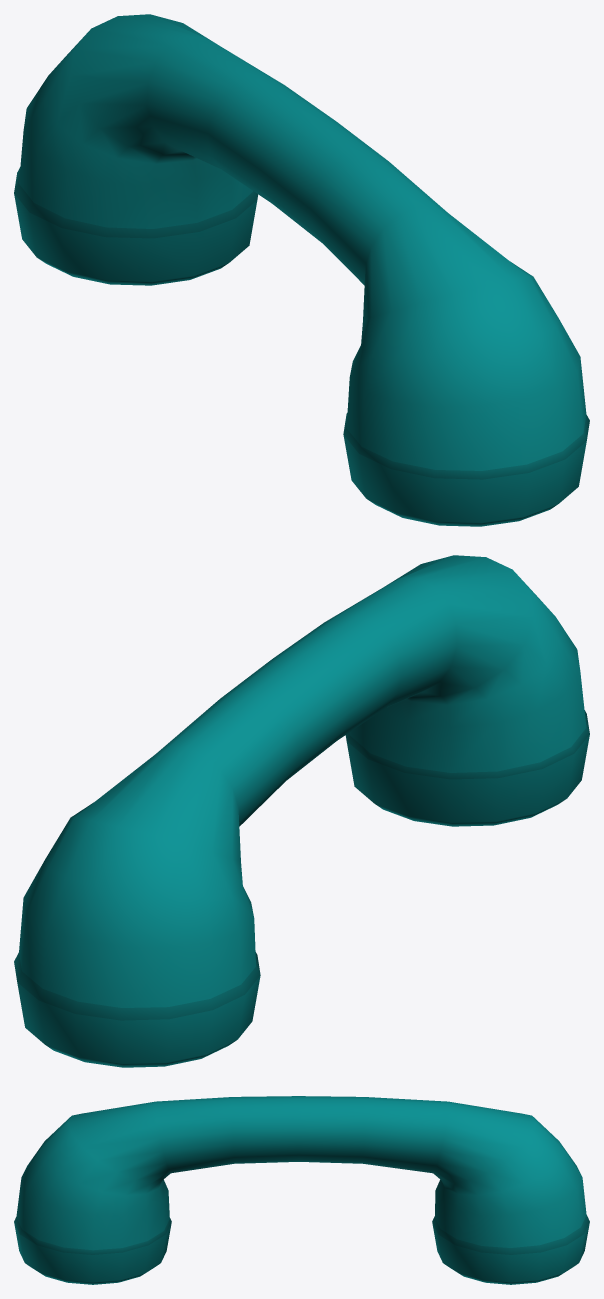
File: human-electronics-telephone-handset_v7.glb
3 views of the same model, one above another, from view 1: azimuth 30°, elevation 25°; view 2: azimuth 150°, elevation 25°; view 3: azimuth 270°, elevation 25° (orthographic). The views are drawn at different scales.
Visible parts, largest first — view 1: Telephone Handset_v7; view 2: Telephone Handset_v7; view 3: Telephone Handset_v7.
Boxes of the visible parts, box(x1,y1,x2,y2) form: Telephone Handset_v7: box(14, 14, 589, 526); Telephone Handset_v7: box(14, 555, 589, 1067); Telephone Handset_v7: box(14, 1096, 589, 1284).
Size of the model in its own units: 0.0603 by 0.067 by 0.22.
